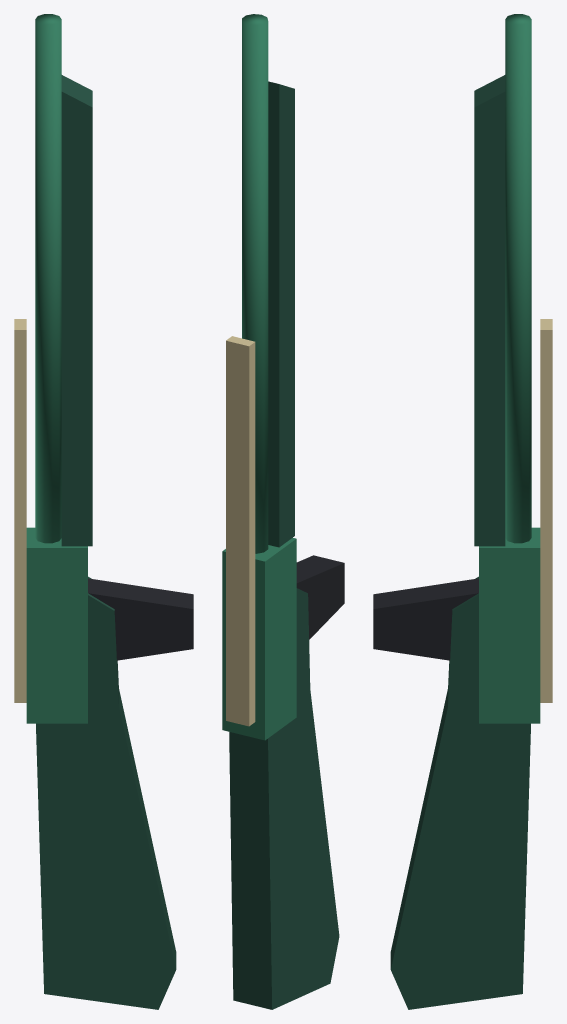
File: piranha_gun.glb
The picture shows the model from 3 angles, left to right: view 1: azimuth 90°, elevation 25°; view 2: azimuth 150°, elevation 25°; view 3: azimuth 270°, elevation 25°; orthographic projection.
Parts seen in each view (by area): view 1: piranha_gun_v0; view 2: piranha_gun_v0; view 3: piranha_gun_v0.
Boxes of the visible parts, <box> form: piranha_gun_v0: <box>14,14,193,1009</box>; piranha_gun_v0: <box>222,14,344,1009</box>; piranha_gun_v0: <box>373,14,552,1009</box>.
Bounding box in the file's own units: 0.055 × 1.23 × 0.204.
